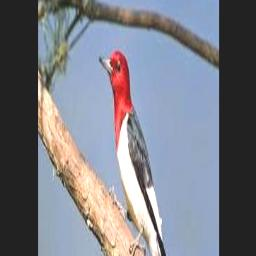Woodpecker: (99, 49, 172, 256)
